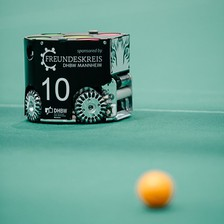ball: (134, 169, 173, 208)
robot: (19, 29, 134, 124)
